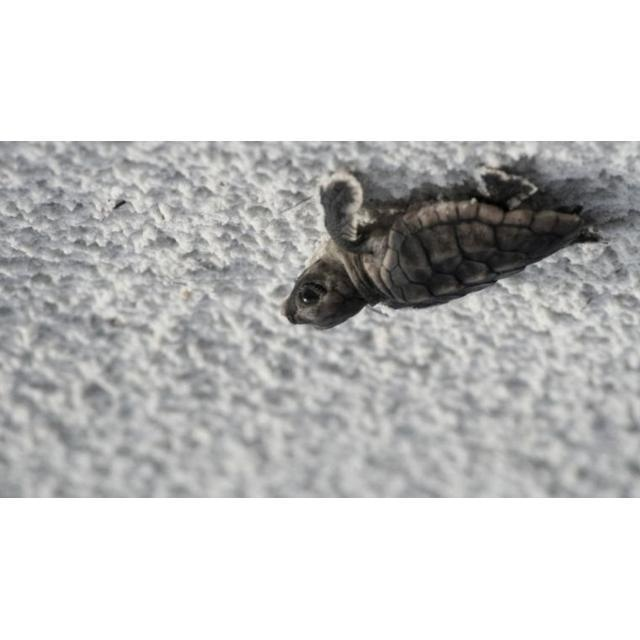turtle: (278, 166, 606, 330)
